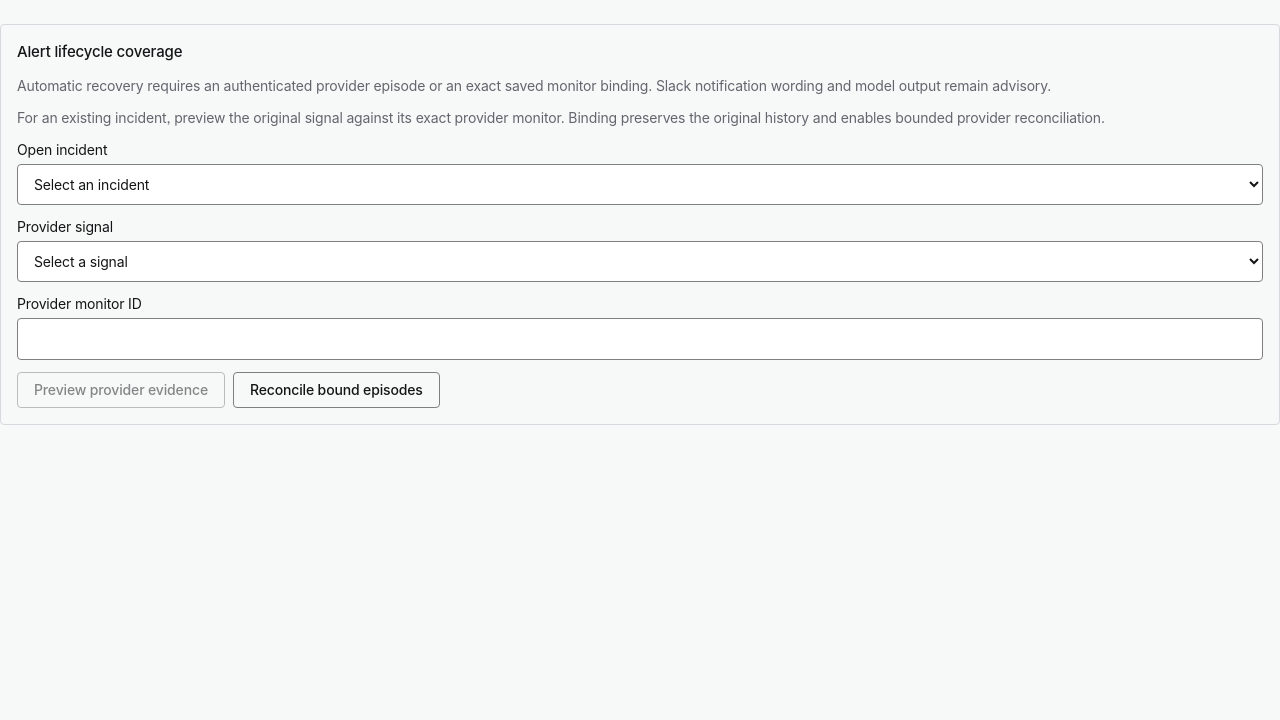
Test case: changing a provider monitor discards the earlier preview
Select "Checkout timeout (sev2)" in the dropdown labelled "Open incident" at [640, 184], box [17,164,1263,204]
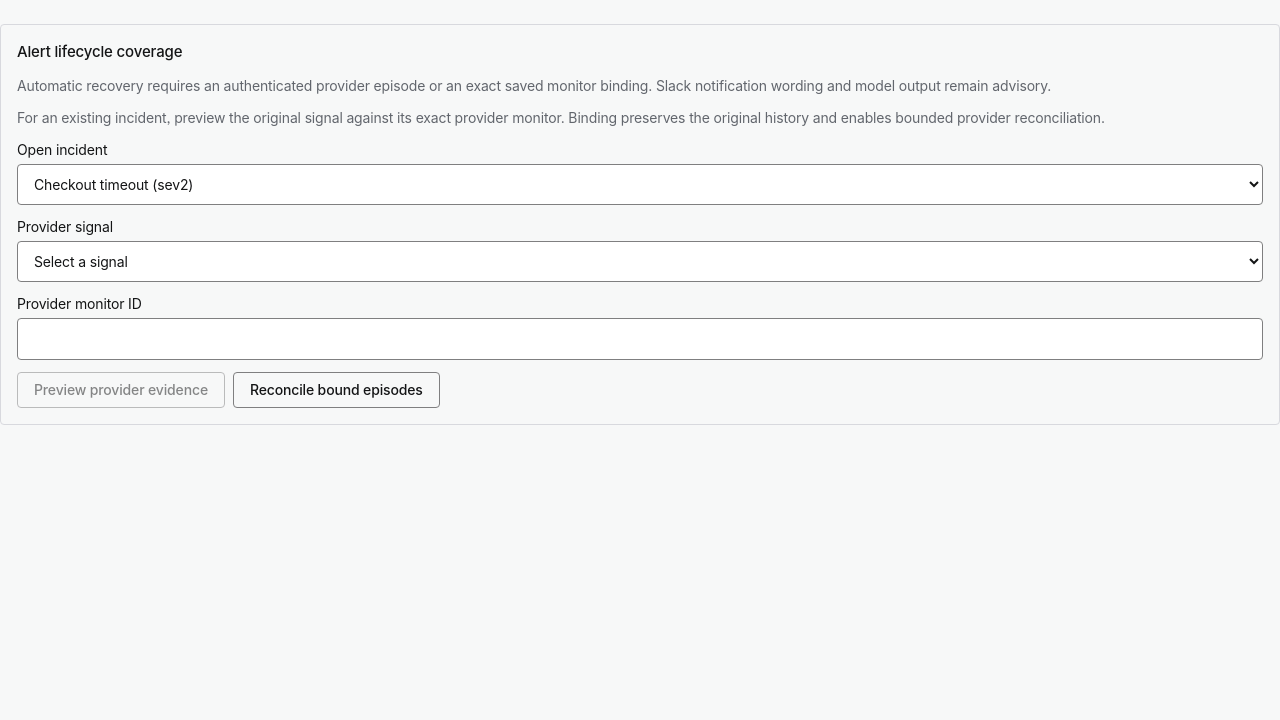
Select "Notification: Checkout timed out (unknown)" in the dropdown labelled "Provider signal" at [640, 261], box [17,240,1263,282]
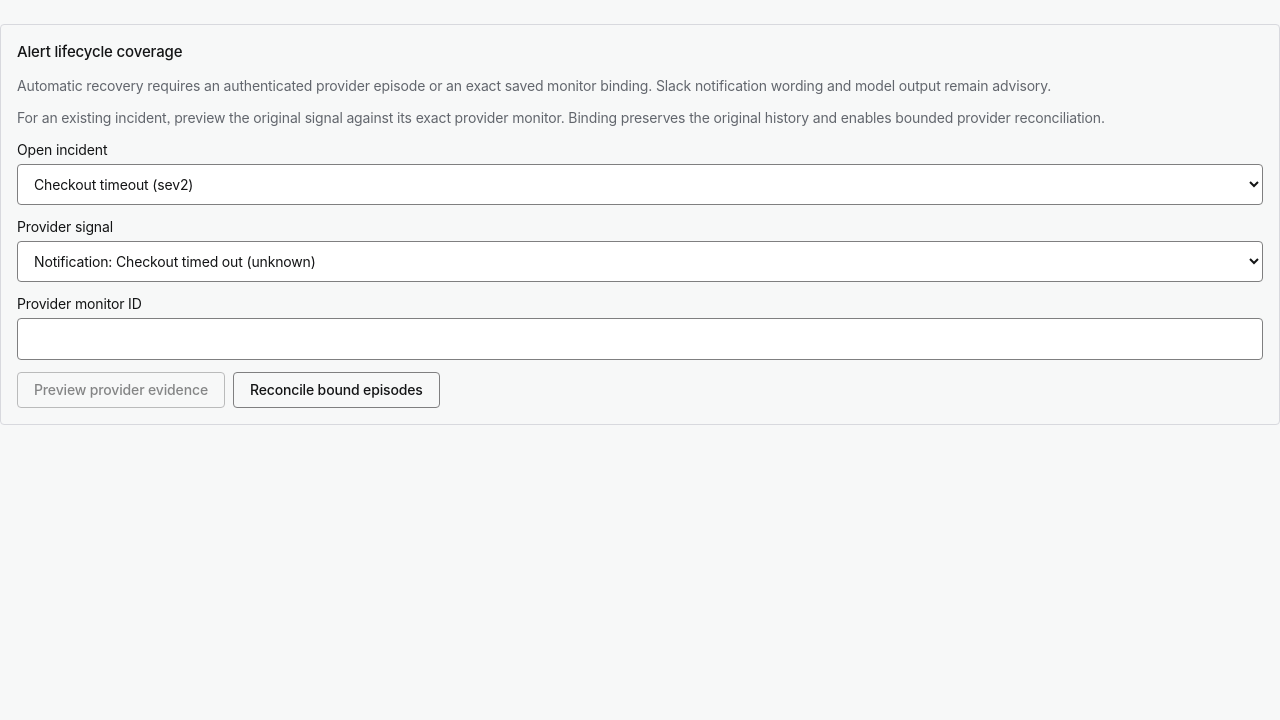
Type "73" into the field labelled "Provider monitor ID" at [640, 338], box [17,318,1263,360]
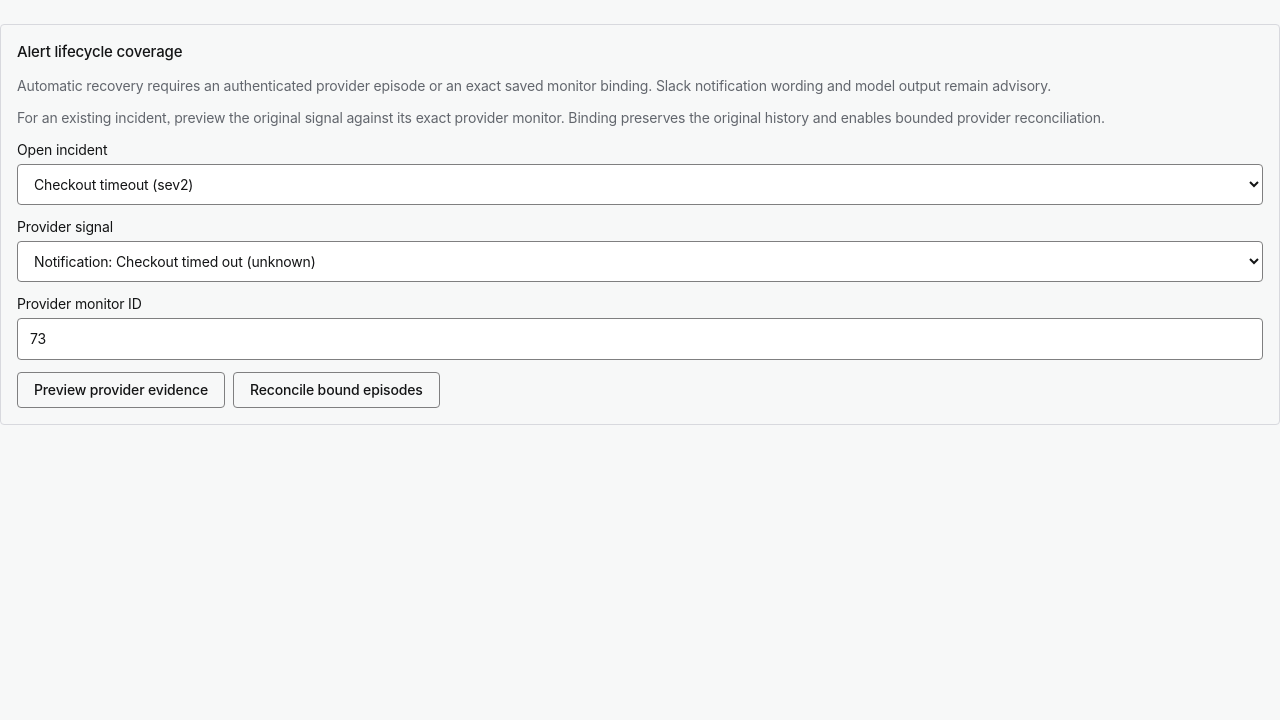
Click the button "Preview provider evidence" at [121, 390], box [17,372,225,408]
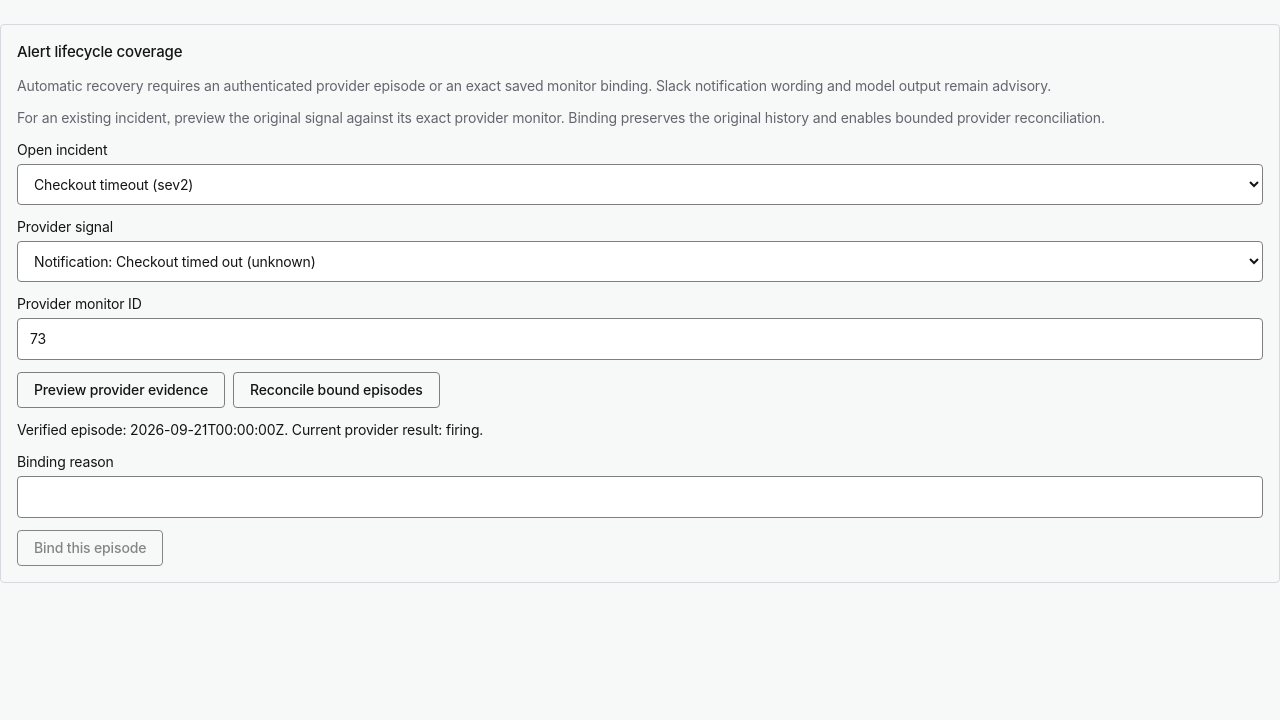
expect the text "Verified episode:" is shown: met, box [17,420,130,438]
Replace the text in the field labelled "Provider monitor ID" with "74" at [640, 338], box [17,318,1263,360]
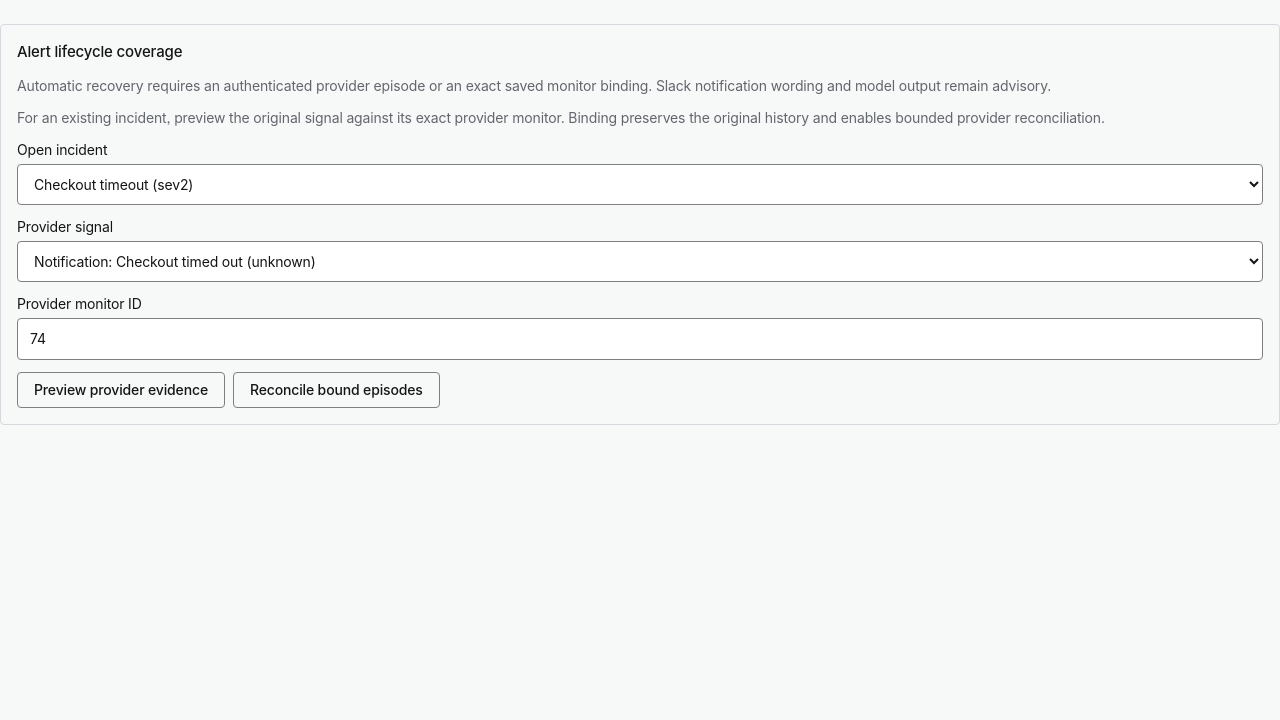
expect the button "Bind this episode" is gone: met
